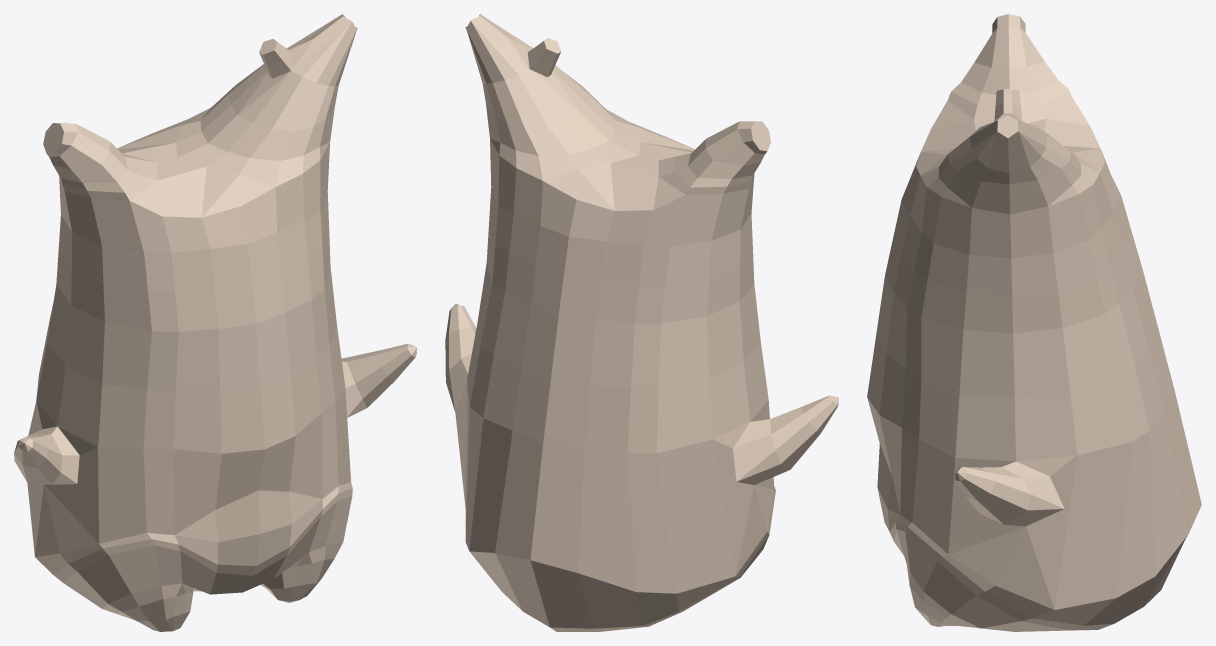
Rendered from frame_0127.obj.
3 views of the same model, side by side, from view 1: azimuth 30°, elevation 25°; view 2: azimuth 150°, elevation 25°; view 3: azimuth 270°, elevation 25° (orthographic). The views are drawn at different scales.
Visible parts, largest first — view 1: korok; view 2: korok; view 3: korok.
Boxes of the visible parts, left/top/right/bottom form: korok: left=14, top=14, right=416, bottom=631; korok: left=445, top=14, right=838, bottom=631; korok: left=867, top=14, right=1201, bottom=631.
Bounding box in the file's own units: 1.46 × 1.96 × 1.04.
